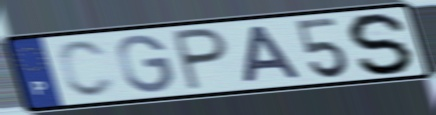5: (292, 15, 350, 80)
A: (241, 23, 305, 86)
C: (55, 38, 120, 100)
G: (114, 33, 176, 95)
P: (170, 26, 231, 93)
S: (345, 11, 418, 77)
